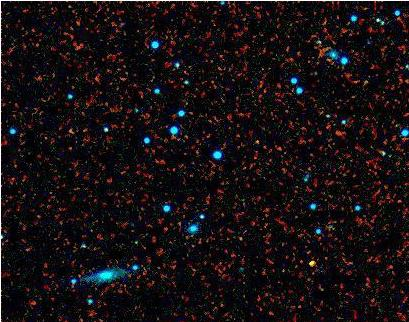star: (296, 245, 326, 275)
